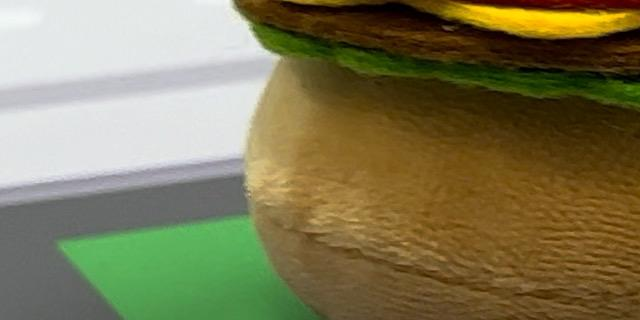burger: (191, 0, 640, 320)
